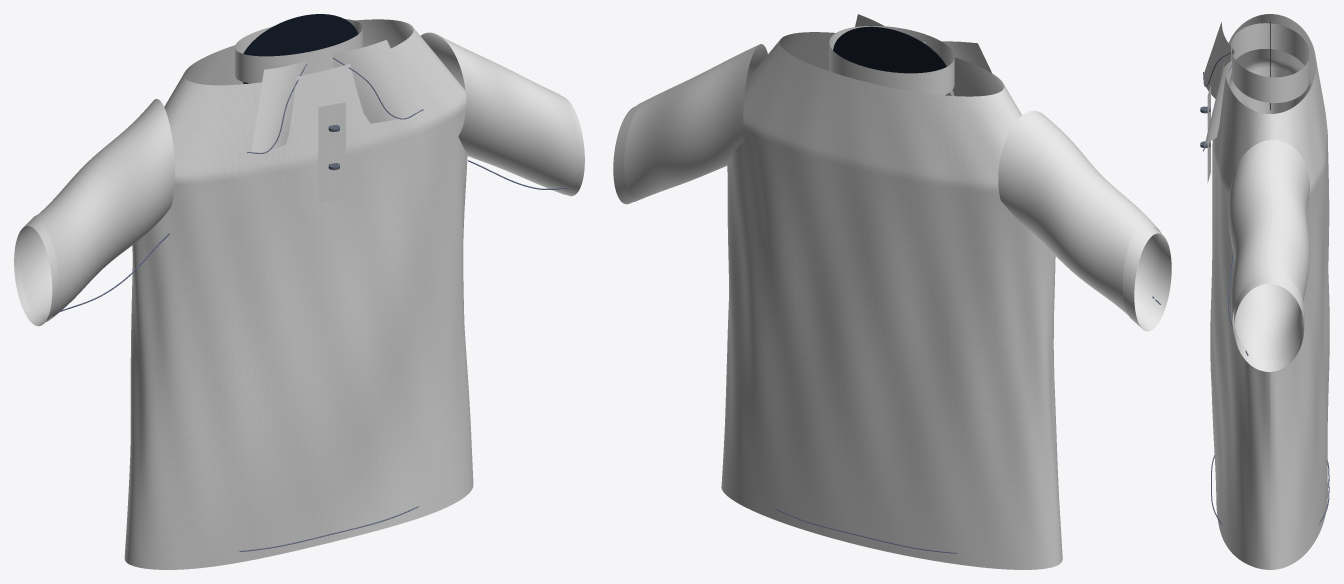
The model's file is polo_shirt.glb.
The picture shows the model from 3 angles, left to right: view 1: azimuth 30°, elevation 25°; view 2: azimuth 150°, elevation 25°; view 3: azimuth 270°, elevation 25°; orthographic projection. The views are drawn at different scales.
Parts seen in each view (by area): view 1: pique_body, sleeve_-1, sleeve_1, collar_1, neck_dark_interior, collar_-1, neck_stand, placket, cuff_-1; view 2: pique_body, sleeve_-1, sleeve_1, neck_dark_interior, neck_stand, cuff_-1, cuff_1, collar_-1; view 3: pique_body, sleeve_1, neck_stand, cuff_1, collar_-1, collar_1, placket.
Boxes of the visible parts, x1=… form: pique_body: x1=124, y1=19, x2=473, y2=569; sleeve_-1: x1=20, y1=99, x2=174, y2=321; sleeve_1: x1=421, y1=32, x2=579, y2=194; collar_1: x1=333, y1=40, x2=419, y2=123; neck_dark_interior: x1=243, y1=14, x2=357, y2=83; collar_-1: x1=251, y1=60, x2=306, y2=152; neck_stand: x1=235, y1=19, x2=362, y2=83; placket: x1=318, y1=102, x2=345, y2=203; cuff_-1: x1=14, y1=214, x2=58, y2=326; pique_body: x1=721, y1=32, x2=1062, y2=569; sleeve_-1: x1=998, y1=110, x2=1161, y2=325; sleeve_1: x1=624, y1=44, x2=767, y2=201; neck_dark_interior: x1=833, y1=26, x2=946, y2=95; neck_stand: x1=829, y1=26, x2=954, y2=95; cuff_-1: x1=1123, y1=226, x2=1171, y2=331; cuff_1: x1=613, y1=105, x2=639, y2=204; collar_-1: x1=923, y1=41, x2=992, y2=95; pique_body: x1=1210, y1=14, x2=1329, y2=569; sleeve_1: x1=1228, y1=140, x2=1309, y2=363; neck_stand: x1=1231, y1=23, x2=1309, y2=102; cuff_1: x1=1234, y1=271, x2=1304, y2=371; collar_-1: x1=1203, y1=22, x2=1234, y2=98; collar_1: x1=1204, y1=60, x2=1231, y2=146; placket: x1=1207, y1=85, x2=1210, y2=182.
Size of the model in its own units: 2.78 by 2.52 by 0.6399.
Materials: 5 (2 with a texture image).
